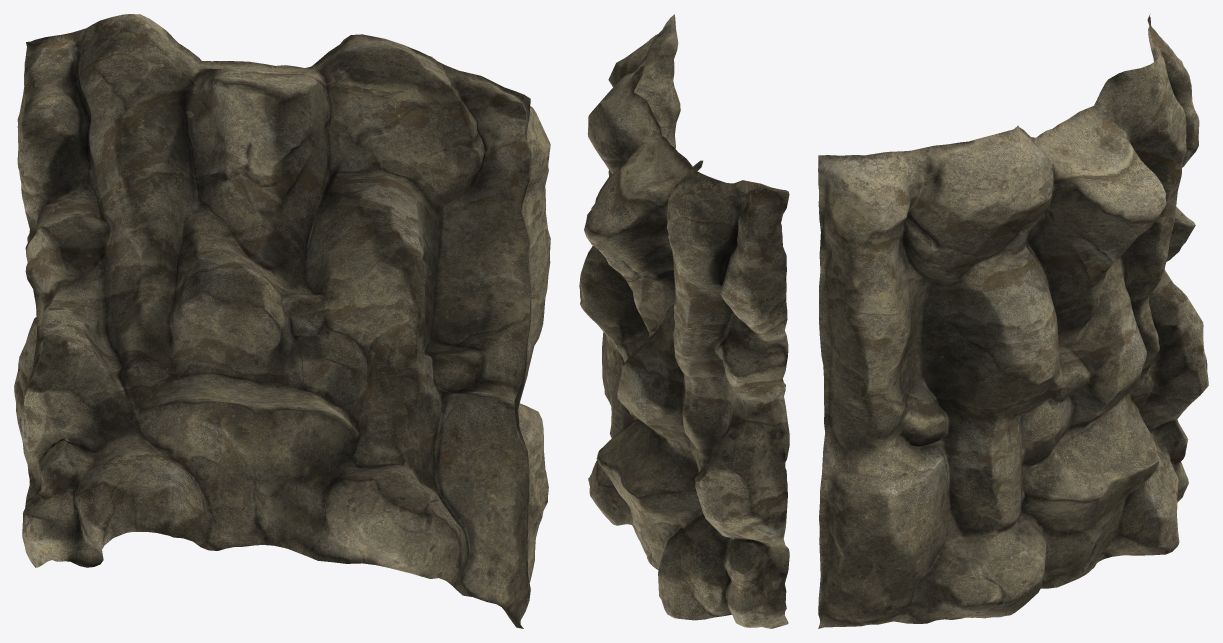
The model's file is cave_saltmine_jagged_wall_convex_02.dae.
3 views of the same model, side by side, from view 1: azimuth 30°, elevation 25°; view 2: azimuth 150°, elevation 25°; view 3: azimuth 270°, elevation 25° (orthographic). The views are drawn at different scales.
Parts seen in each view (by area): view 1: wall_2_convex_90; view 2: wall_2_convex_90; view 3: wall_2_convex_90.
Part boxes in pixels (x1,y1,x2,y2): wall_2_convex_90: [14, 14, 550, 628]; wall_2_convex_90: [579, 14, 789, 628]; wall_2_convex_90: [818, 14, 1208, 628].
Bounding box in the file's own units: 2.92 × 4.02 × 2.97.
